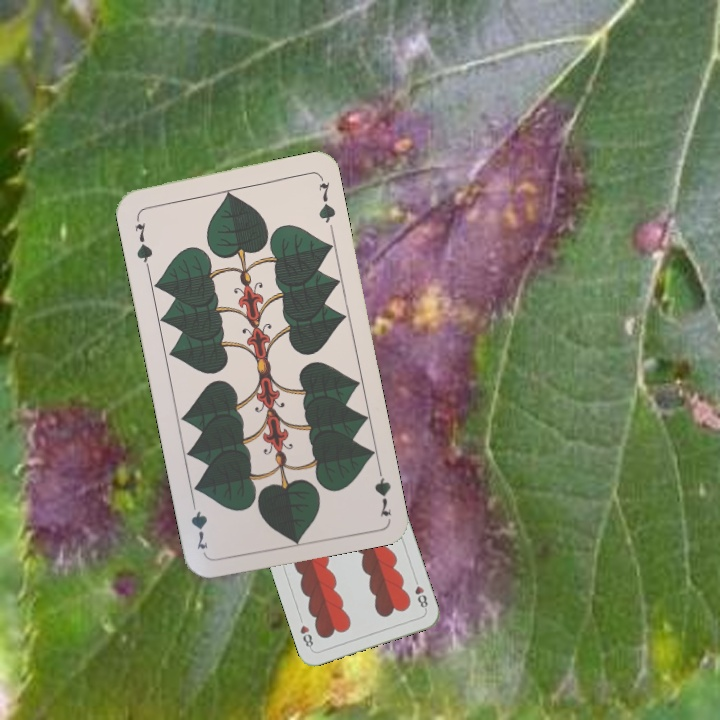G7: (130, 211, 156, 270), (370, 459, 394, 519)
H8: (410, 573, 430, 613)
